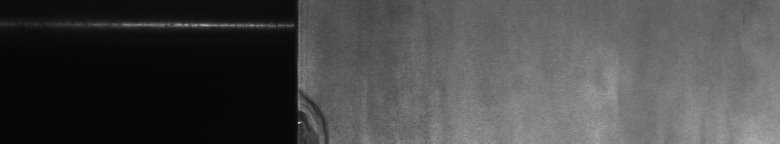hb: (308, 89, 337, 136)
